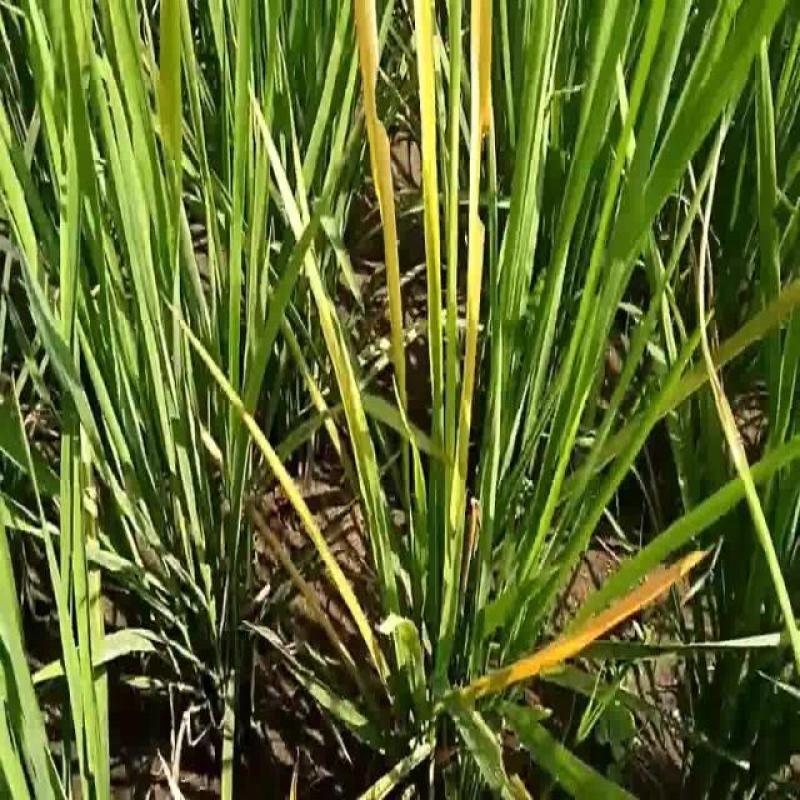Rice Tungro: (155, 284, 383, 682), (456, 548, 714, 716), (351, 3, 412, 382), (412, 4, 450, 426), (464, 2, 497, 406)
